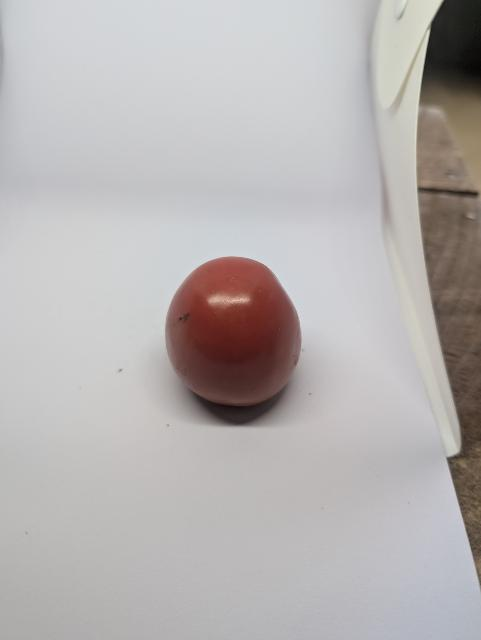red: (160, 253, 308, 409)
